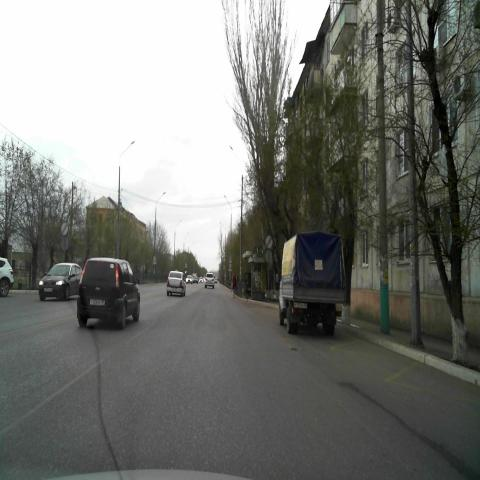3_31: (60, 219, 68, 235)
